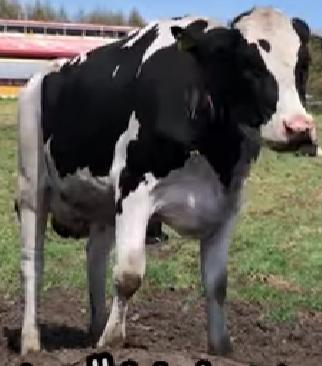cow: (17, 8, 317, 355)
